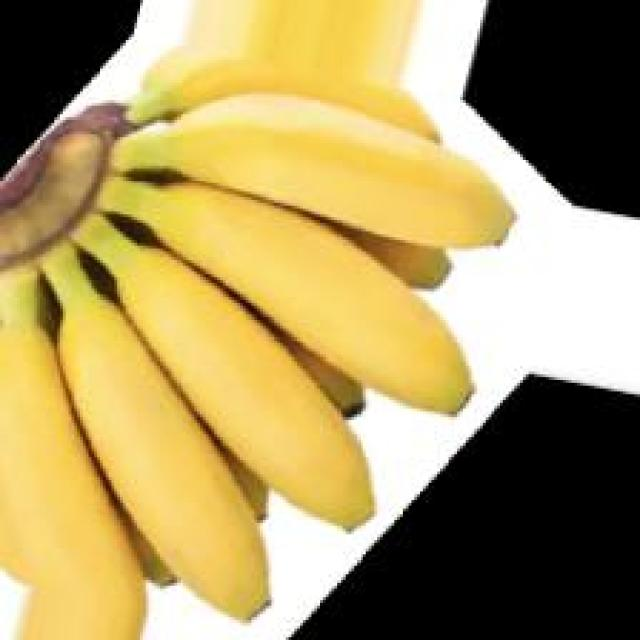banana: (3, 100, 508, 640)
